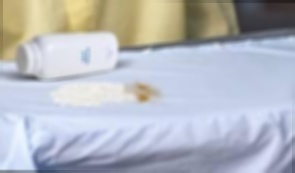oil: (133, 81, 163, 108)
